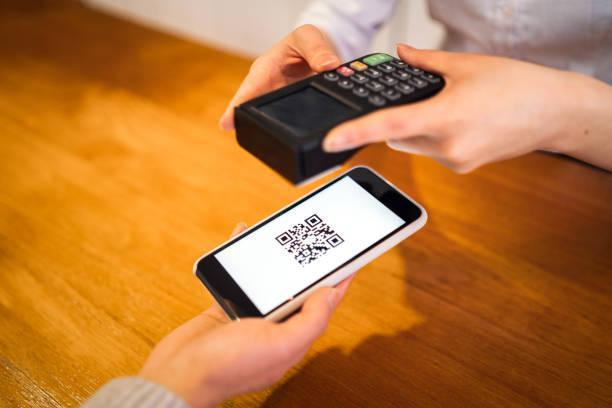qr_code: (274, 214, 345, 268)
